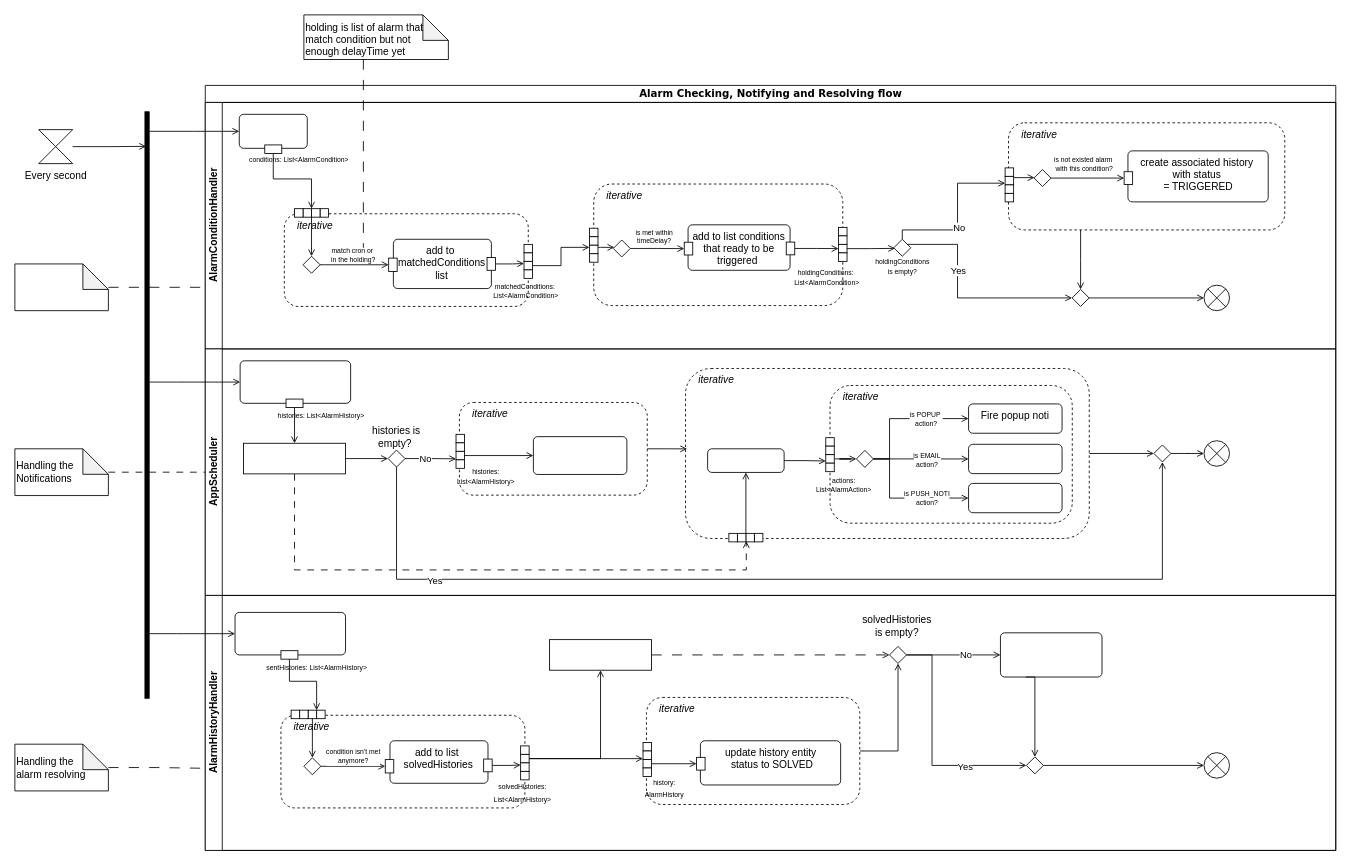
Image size: 1351x865. Some labels were removed from this diagram. The shapes that lost their labels are listed below. From the top down, each one's centre as x and y in pixels, then its label:
[272,130]: Get all Alarm Conditions
[61,287]: Handling the alarm triggering
[295,381]: Get all TRIGGERED alarm histories
[294,458]: <<datastore>> histories
[580,455]: update status to SENT
[745,460]: get all actions
[1015,458]: Fire email noti
[1015,498]: Fire push noti
[290,633]: Get all SENT alarm histories
[600,654]: <<datastore>> solvedHistories
[1051,654]: websocket fires resolved message to UI
